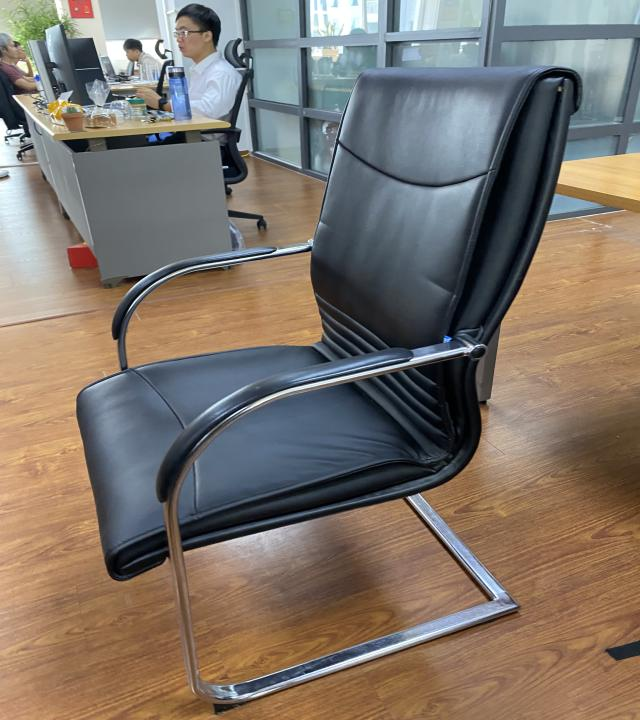SS_03: (68, 63, 585, 708)
